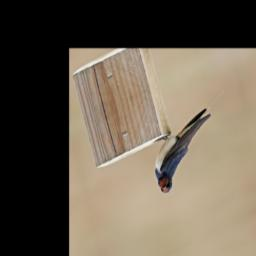Swallow: (142, 88, 244, 199)
